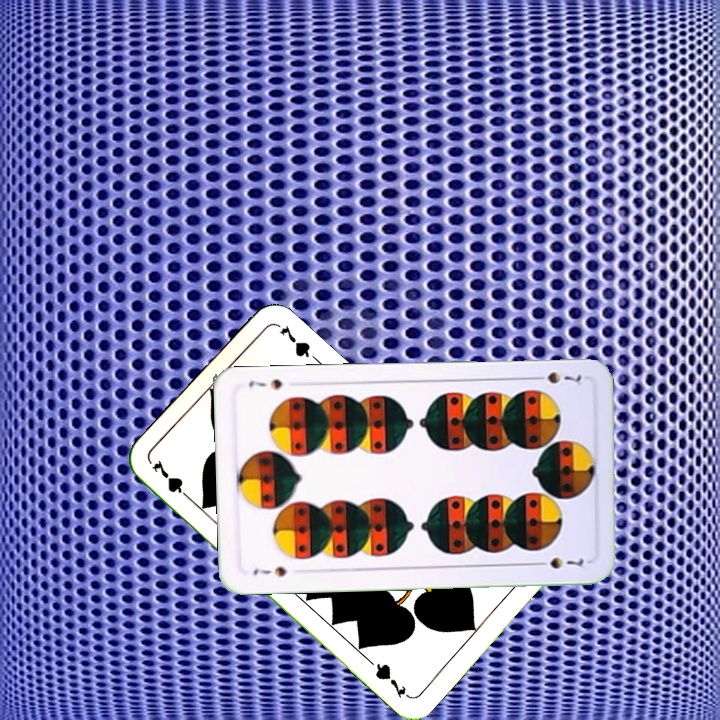G7: (147, 455, 196, 504)
S7: (528, 368, 584, 387), (249, 562, 289, 579)
